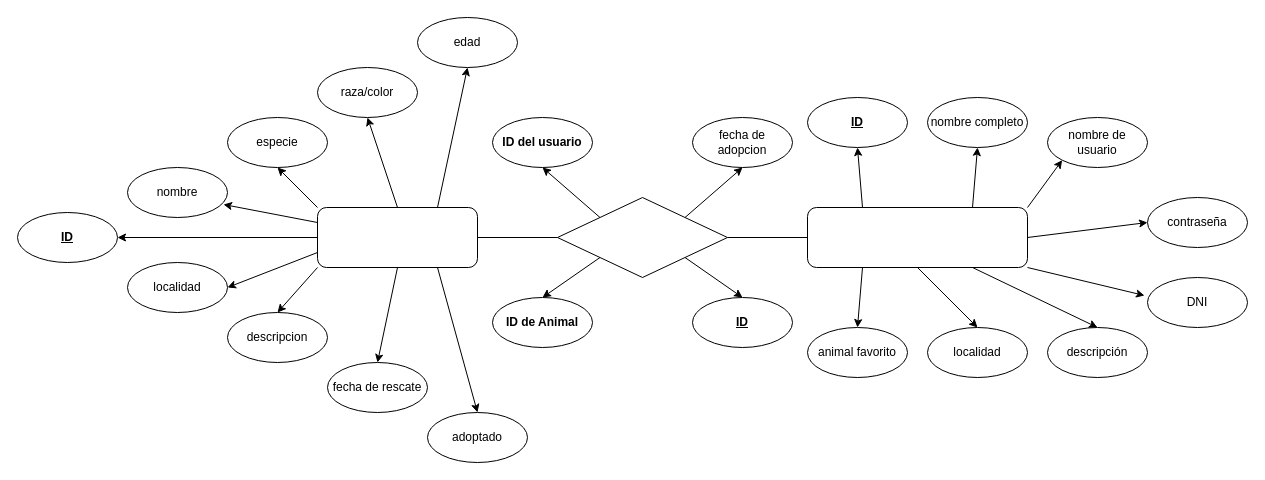
Some shapes in this 1265 by 480 pixel diagram are drawn without their labels. Each missing label, with the centre of its shape:
Adoptan: (642,237)
Animal: (397,237)
Usuario: (917,237)
